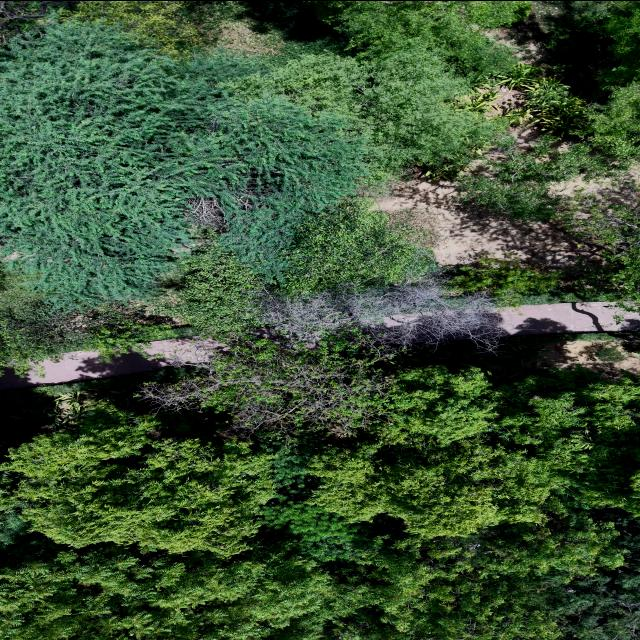DRY_AREA: (376, 179, 598, 267), (377, 179, 597, 267), (377, 180, 596, 267), (0, 338, 217, 390), (485, 340, 639, 376), (497, 302, 639, 335)
VEGETATION_TREE: (0, 1, 639, 639), (0, 1, 639, 371), (1, 366, 639, 639), (1, 21, 377, 368), (2, 23, 365, 307), (0, 198, 492, 371), (55, 1, 516, 170), (460, 1, 639, 309), (273, 1, 515, 168), (4, 408, 274, 555), (461, 1, 639, 220), (268, 44, 501, 170), (140, 339, 386, 435), (0, 272, 196, 373), (2, 1, 335, 58), (260, 278, 501, 349), (53, 1, 331, 57), (279, 199, 435, 294), (0, 303, 196, 373), (460, 140, 624, 221), (443, 256, 637, 311), (566, 198, 639, 311), (167, 250, 261, 336), (494, 66, 583, 136), (446, 257, 559, 306), (532, 1, 612, 67), (601, 1, 639, 87), (458, 1, 530, 27), (493, 343, 545, 364), (594, 346, 626, 362)
